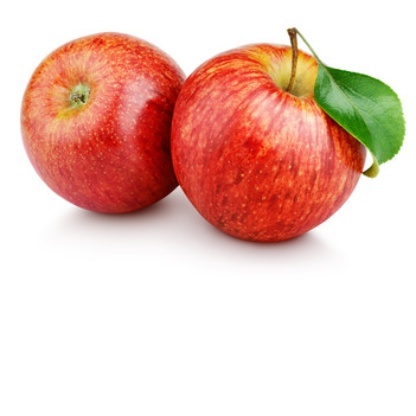tao: (164, 37, 366, 233), (21, 24, 175, 207)
